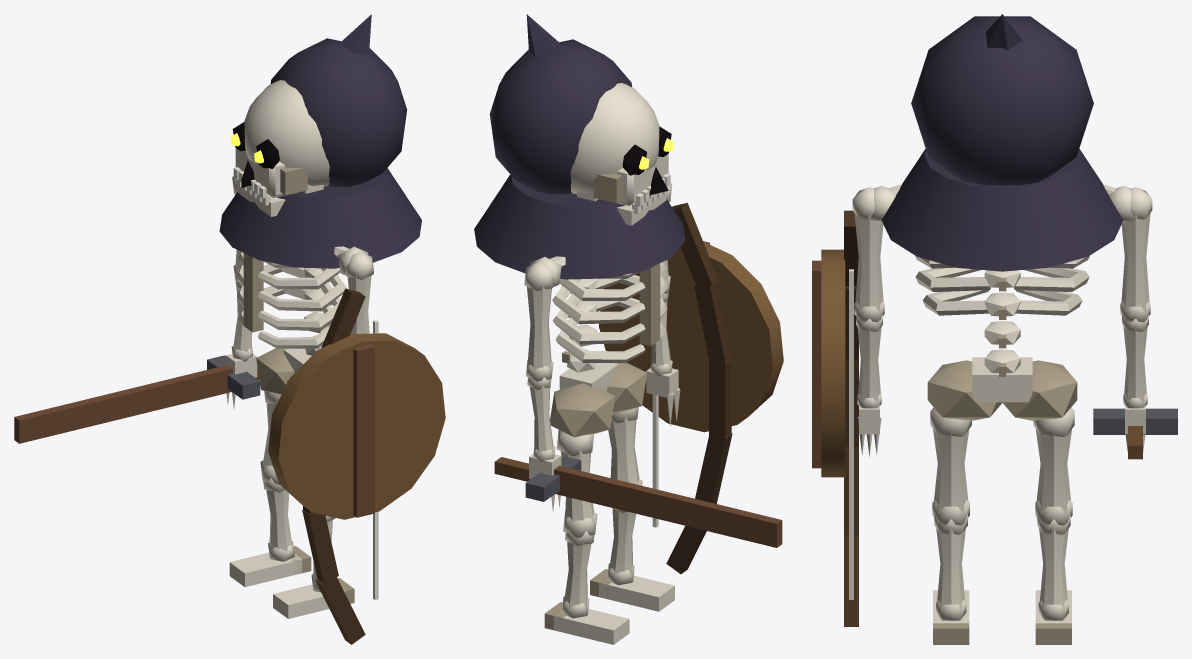
The model's file is m_skeleton.glb.
3 renders of one model, left to right at view 1: azimuth 30°, elevation 25°; view 2: azimuth 150°, elevation 25°; view 3: azimuth 270°, elevation 25°, orthographic. The views are drawn at different scales.
Parts seen in each view (by area): view 1: hood, shield, head, body, sword, bow, legR, legL, armR, armL; view 2: hood, shield, body, head, bow, sword, legR, legL, armR, armL; view 3: hood, body, shield, legL, legR, armL, bow, armR, sword.
Boxes of the visible parts, x1=… form: hood: x1=219, y1=14, x2=421, y2=268; shield: x1=268, y1=333, x2=445, y2=519; head: x1=230, y1=80, x2=329, y2=216; body: x1=236, y1=185, x2=368, y2=395; sword: x1=14, y1=355, x2=260, y2=443; bow: x1=302, y1=288, x2=378, y2=644; legR: x1=229, y1=391, x2=311, y2=586; legL: x1=273, y1=516, x2=354, y2=618; armR: x1=226, y1=176, x2=257, y2=409; armL: x1=345, y1=251, x2=373, y2=334; hood: x1=474, y1=14, x2=685, y2=279; shield: x1=598, y1=241, x2=783, y2=432; body: x1=530, y1=192, x2=667, y2=437; head: x1=570, y1=83, x2=673, y2=225; bow: x1=652, y1=202, x2=732, y2=574; sword: x1=494, y1=456, x2=782, y2=547; legR: x1=544, y1=430, x2=629, y2=644; legL: x1=590, y1=407, x2=674, y2=611; armR: x1=524, y1=262, x2=561, y2=511; armL: x1=646, y1=183, x2=680, y2=425; hood: x1=881, y1=14, x2=1123, y2=271; body: x1=870, y1=184, x2=1134, y2=420; shield: x1=812, y1=249, x2=845, y2=477; legL: x1=930, y1=407, x2=971, y2=644; legR: x1=1033, y1=407, x2=1074, y2=644; armL: x1=852, y1=187, x2=884, y2=456; bow: x1=844, y1=210, x2=858, y2=626; armR: x1=1120, y1=187, x2=1152, y2=452; sword: x1=1093, y1=408, x2=1177, y2=459.
Bounding box in the file's own units: 0.76 × 1.21 × 0.605.
